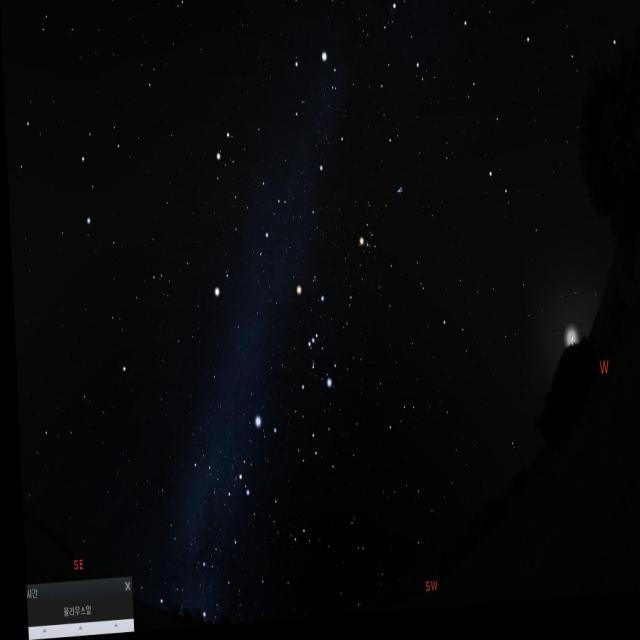canis_major: (226, 412, 280, 502)
canis_minor: (208, 270, 230, 312)
gemini: (208, 126, 286, 263)
moon: (556, 328, 579, 366)
orion: (286, 282, 338, 419)
pleiades: (391, 189, 406, 213)
taurus: (350, 167, 419, 288)
